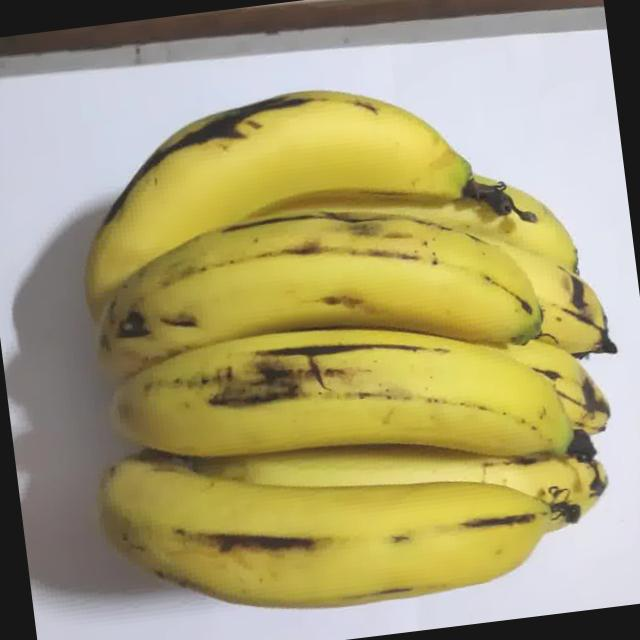banana_pacche: (40, 23, 640, 623)
